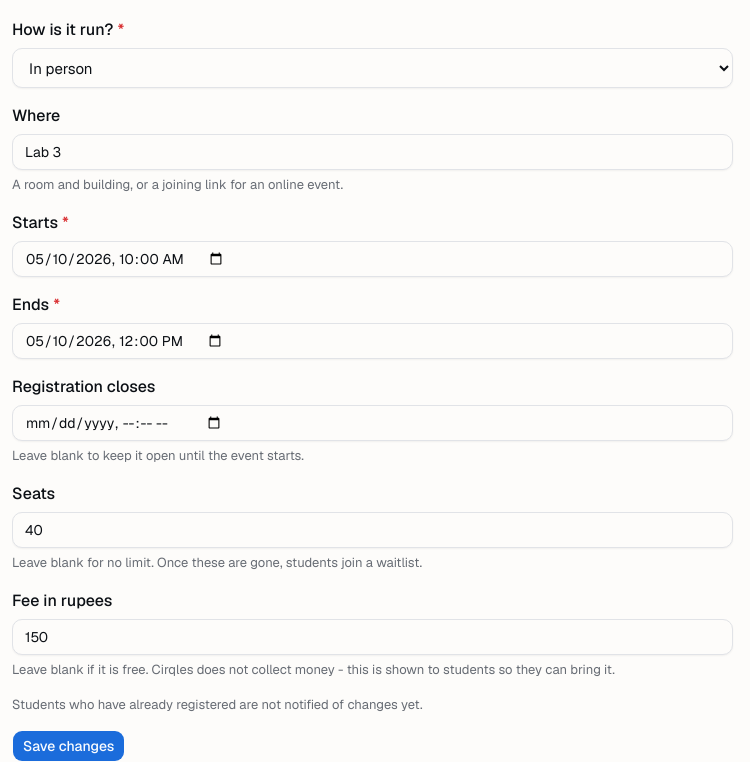
it: EditEventForm › shows a refusal to the organiser who caused it
(page scrolled)
Click the button "Save changes": (69, 746) [12, 730, 125, 761]
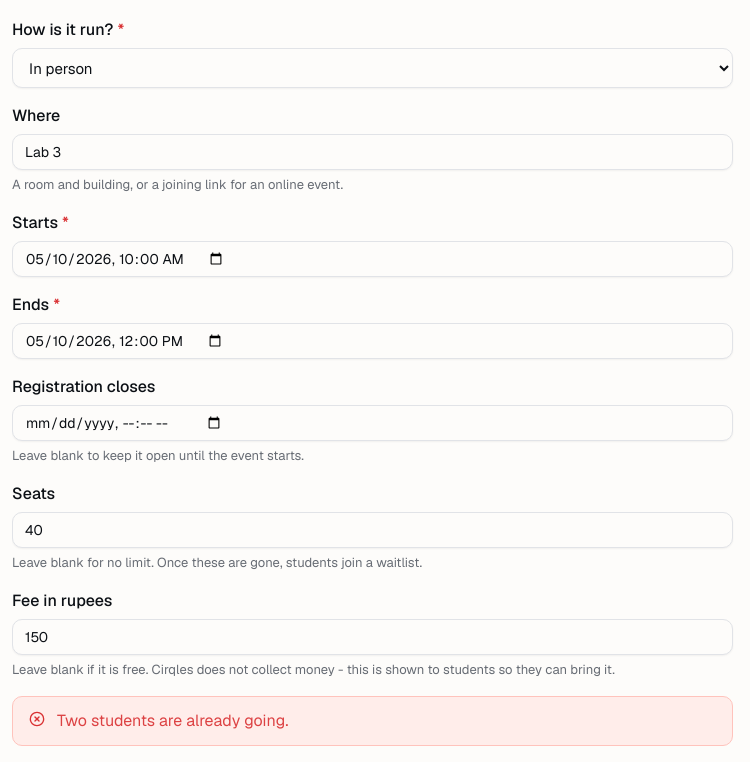
Check: the text "Two students are already going." is shown, box [57, 708, 288, 732]
